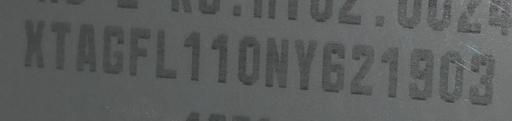letter: (466, 50, 500, 105), (318, 36, 350, 93), (346, 40, 378, 97), (125, 22, 157, 77), (260, 34, 292, 89), (406, 45, 438, 100), (436, 46, 466, 103), (21, 14, 49, 73), (232, 33, 264, 84), (100, 20, 128, 77), (179, 26, 207, 83), (290, 35, 320, 88), (152, 23, 180, 78), (378, 44, 406, 99), (204, 30, 232, 83), (76, 19, 102, 74), (48, 18, 74, 71)
